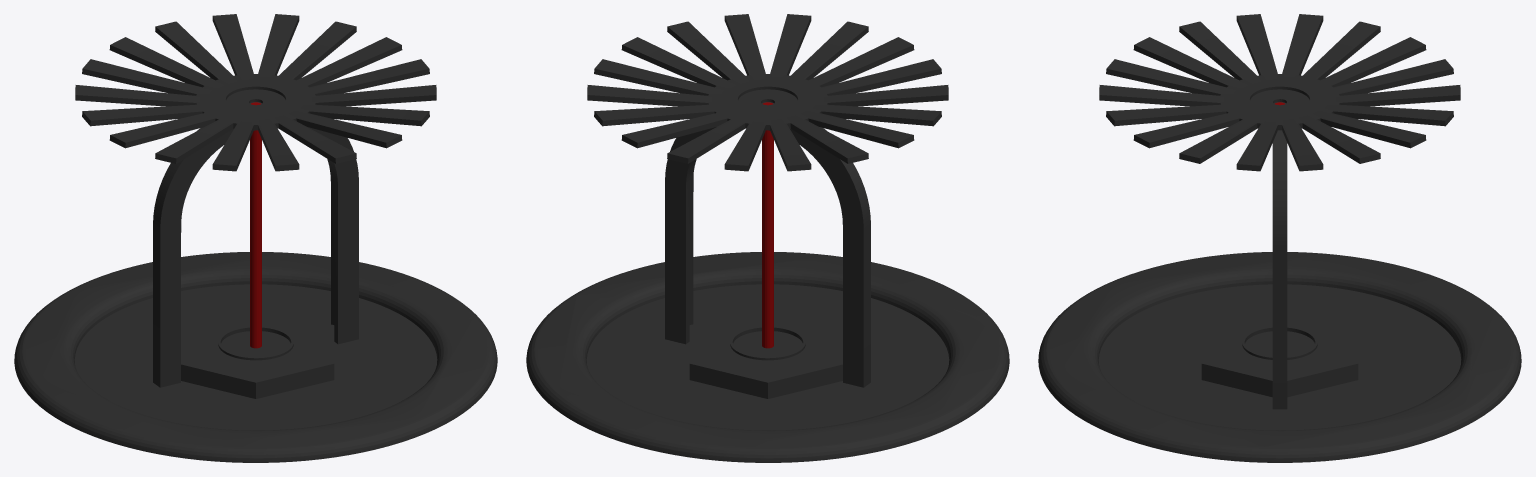
The model's file is freepolygon (008).FBX.FBX.
The picture shows the model from 3 angles, left to right: view 1: azimuth 30°, elevation 25°; view 2: azimuth 150°, elevation 25°; view 3: azimuth 270°, elevation 25°; orthographic projection.
Parts seen in each view (by area): view 1: freepolygon.com; view 2: freepolygon.com; view 3: freepolygon.com.
Part boxes in pixels (x1=…): freepolygon.com: x1=14, y1=14, x2=497, y2=462; freepolygon.com: x1=526, y1=14, x2=1009, y2=462; freepolygon.com: x1=1038, y1=14, x2=1521, y2=462.
Bounding box in the file's own units: 4 × 2.67 × 4.
